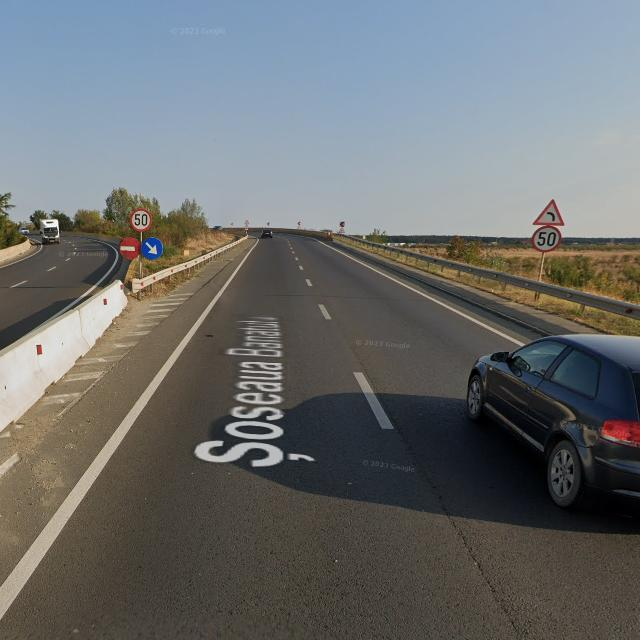forb_ahead: (118, 237, 140, 259)
forb_speed_over_50: (532, 225, 562, 252), (532, 226, 563, 252), (130, 209, 152, 232)
mand_pass_right: (142, 238, 163, 260)
